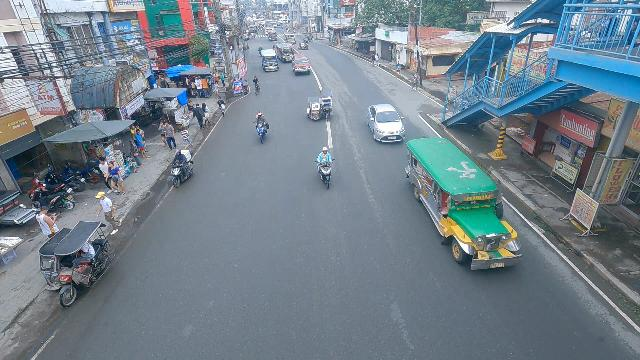car: (366, 102, 406, 144), (292, 53, 311, 75)
jeepney: (404, 137, 526, 273), (260, 49, 280, 72), (275, 42, 296, 63), (284, 32, 296, 44), (268, 31, 277, 41)
motorcycle: (316, 147, 335, 189), (252, 111, 272, 144)
